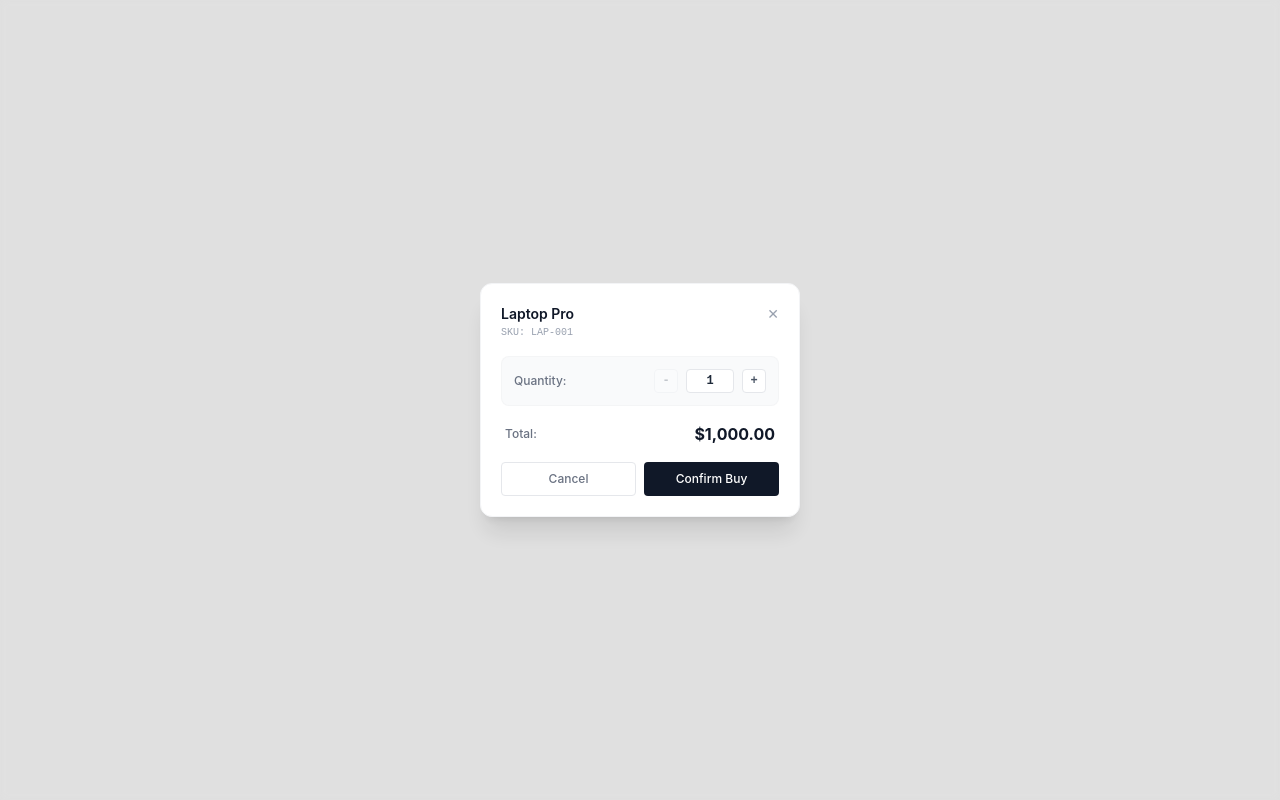
it: BuyModal Component › should calculate the total price dynamically
The image size is (1280, 800).
Click the button "+" at [754, 381], box [742,369,766,393]
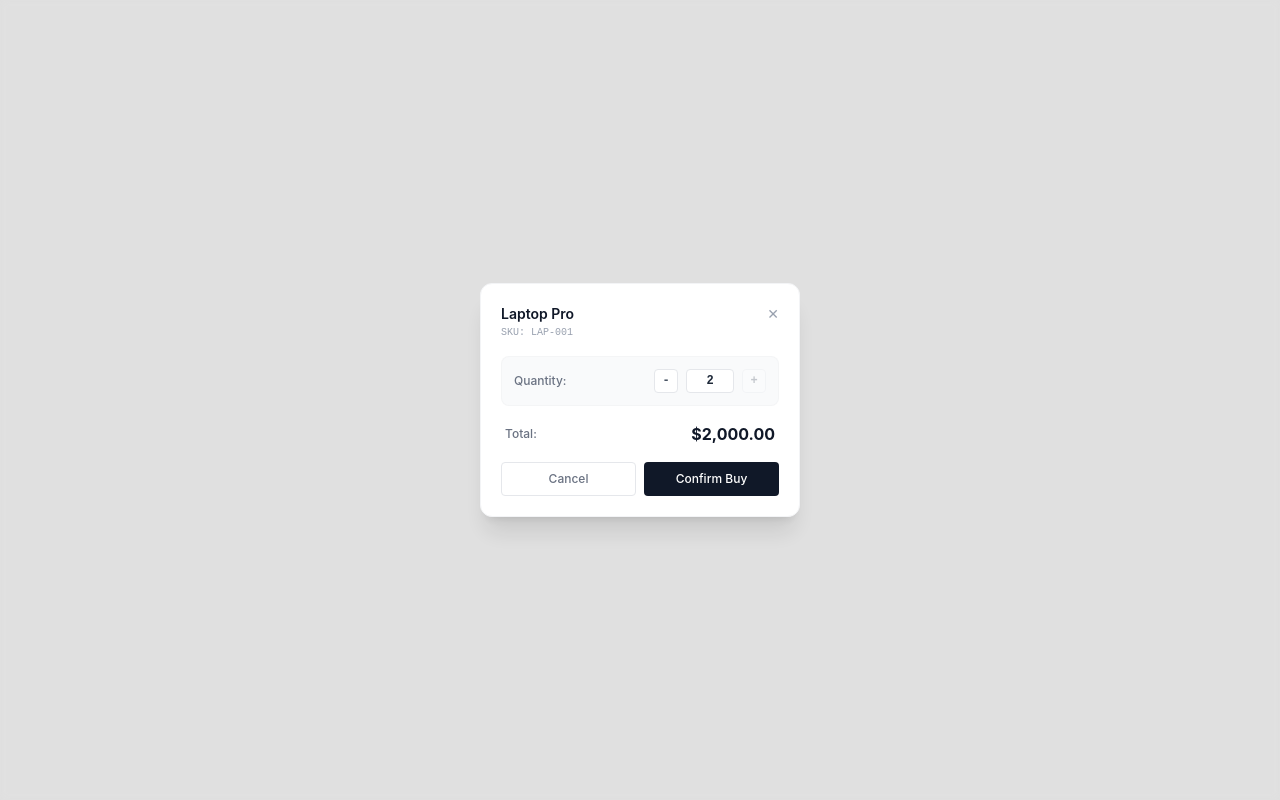
Now the text "$2,000.00" is shown, box [691,422,775,446]
